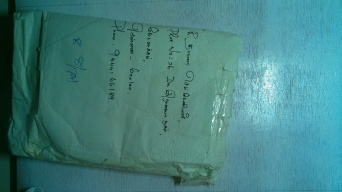l: (8, 14, 239, 181)
